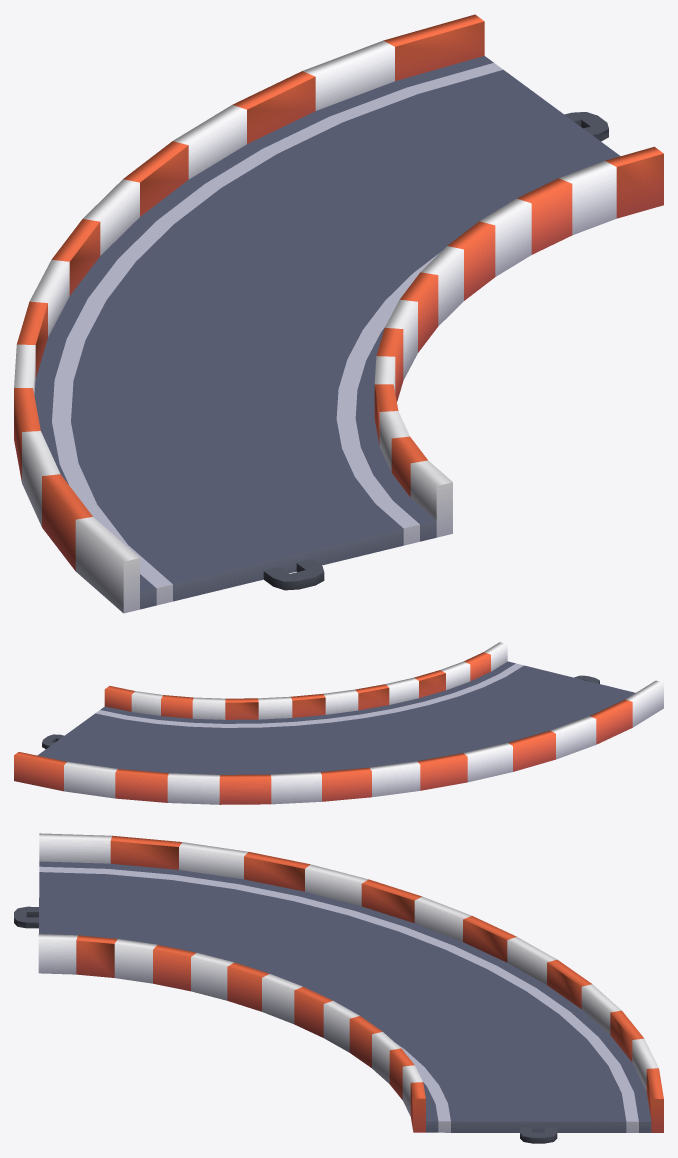
File: track-road-wide-corner-large.018_lev1.glb
The picture shows the model from 3 angles, top to bottom: view 1: azimuth 30°, elevation 25°; view 2: azimuth 150°, elevation 25°; view 3: azimuth 270°, elevation 25°; orthographic projection. The views are drawn at different scales.
Parts seen in each view (by area): view 1: track-road-wide-corner-large.018_lev1; view 2: track-road-wide-corner-large.018_lev1; view 3: track-road-wide-corner-large.018_lev1.
Boxes of the visible parts, x1,y1,x2,y2 form: track-road-wide-corner-large.018_lev1: (14,14,663,613); track-road-wide-corner-large.018_lev1: (14,642,663,804); track-road-wide-corner-large.018_lev1: (14,833,663,1143).
Size of the model in its own units: 5.21 by 0.3 by 5.19.
1 material, 1 textured.
